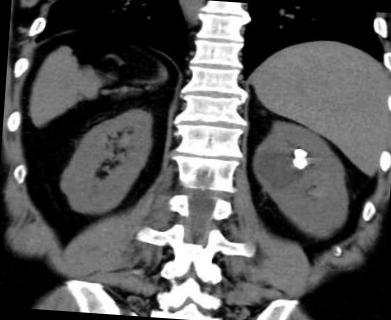Tas_Var: (289, 157, 308, 171), (289, 148, 308, 158)
